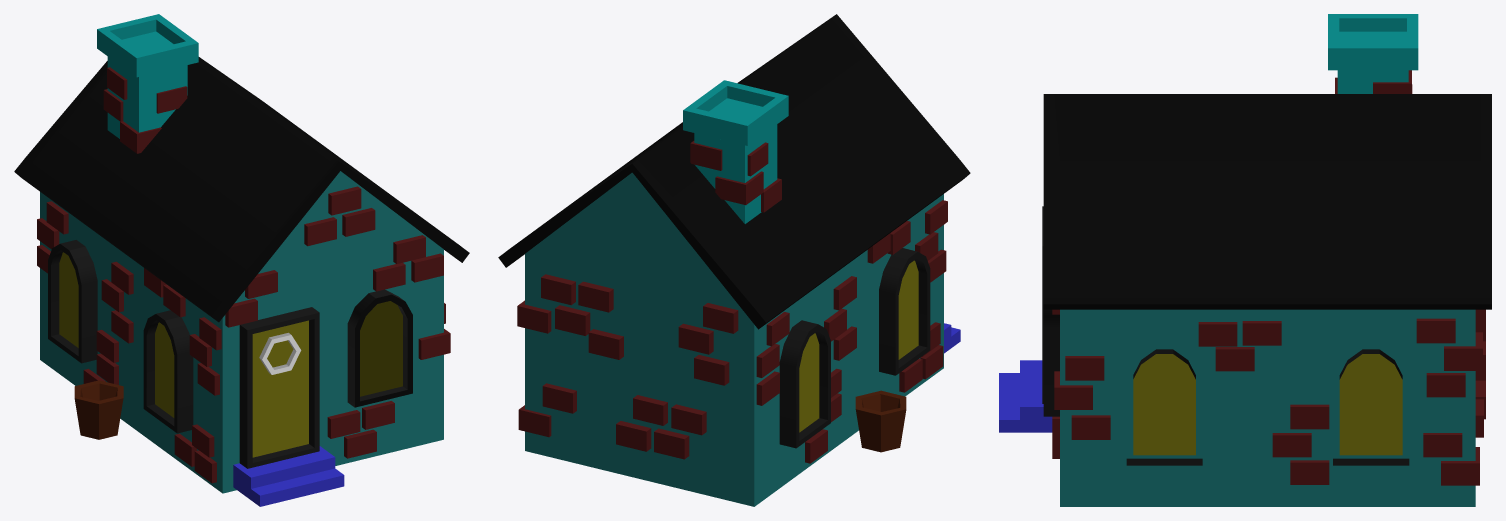
File: Familyhouse.FBX
3 views of the same model, side by side, from view 1: azimuth 30°, elevation 25°; view 2: azimuth 150°, elevation 25°; view 3: azimuth 270°, elevation 25° (orthographic). The views are drawn at different scales.
Visible parts, largest first — view 1: pCube1; view 2: pCube1; view 3: pCube1.
Part boxes in pixels (x1,y1,x2,y2): pCube1: (14, 14, 469, 506); pCube1: (498, 14, 970, 506); pCube1: (999, 14, 1491, 506).
Size of the model in its own units: 1.38 by 1.52 by 1.75.
